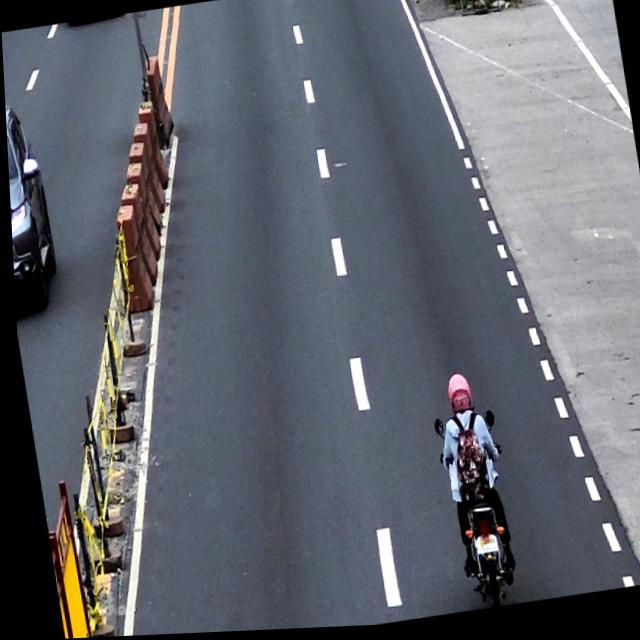Motorcycle: (427, 409, 517, 616)
